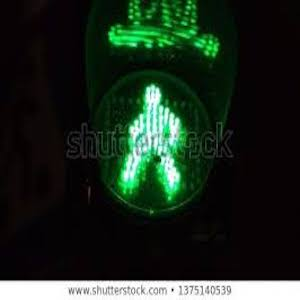green: (113, 80, 212, 212)
